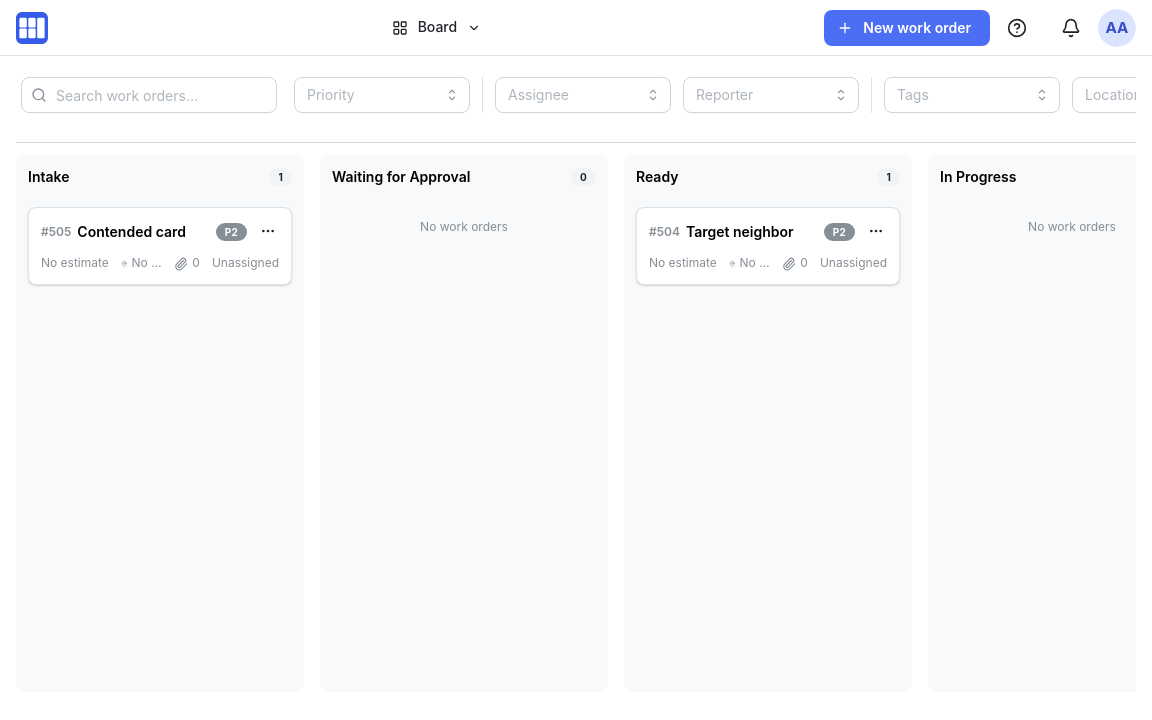
Test: BoardPage move flows › rolls back and shows the conflict toast on a 409 (ADR-012)
What coordinates should you click on to do the following:
click the button named "Work order actions" in the row of "Contended card"
I would click on:
 (268, 231)
Its box is top-left (257, 220), bottom-right (279, 242).
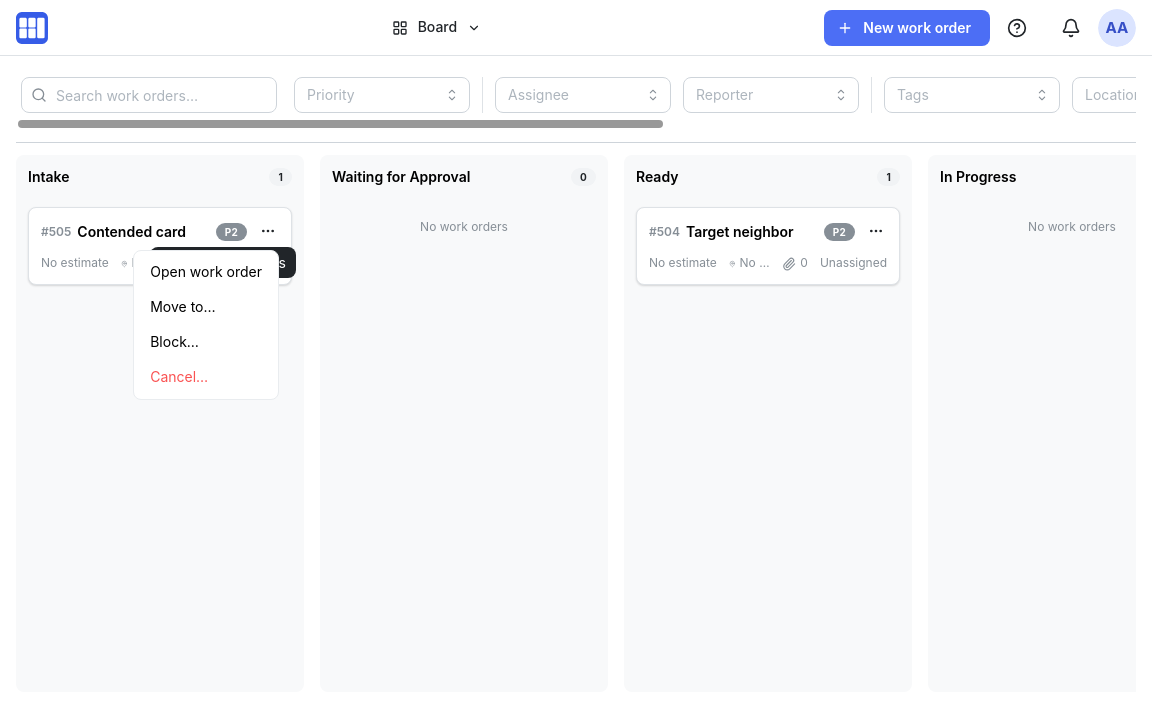
What coordinates should you click on to do the following:
click the menu item "Move to…"
I would click on:
 (206, 307)
Its box is top-left (138, 290), bottom-right (274, 325).
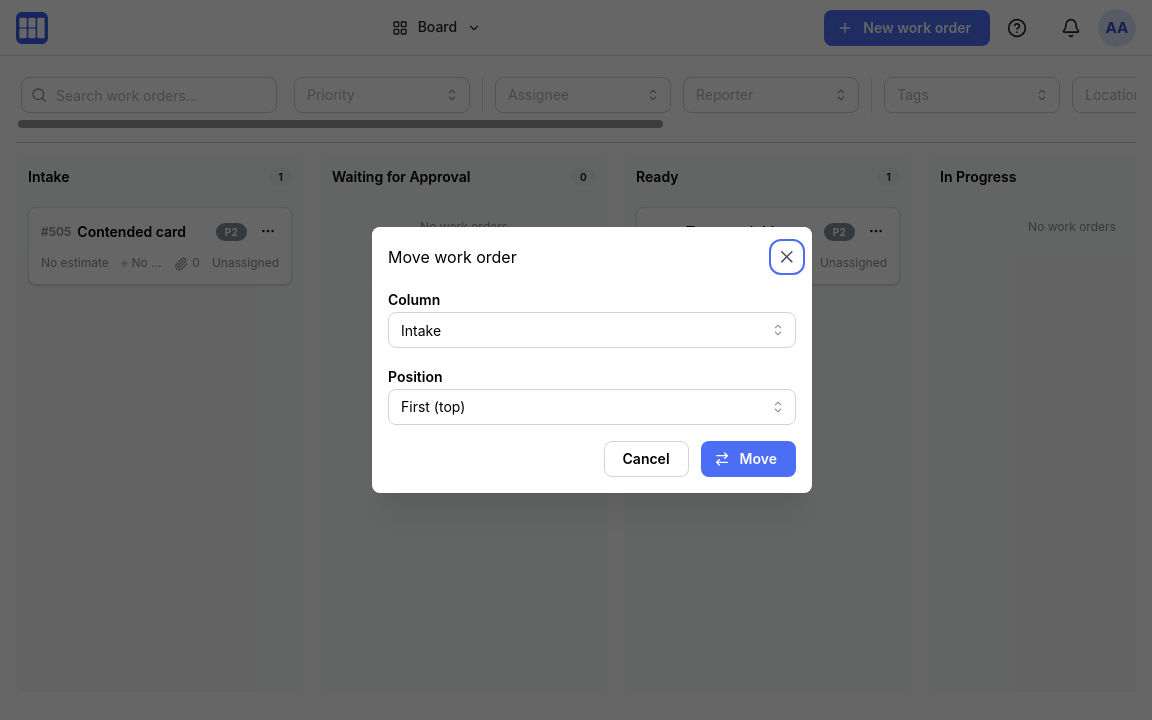
What coordinates should you click on to do the following:
click the dropdown labelled "Column"
I would click on:
 (592, 330)
Its box is top-left (388, 312), bottom-right (796, 348).
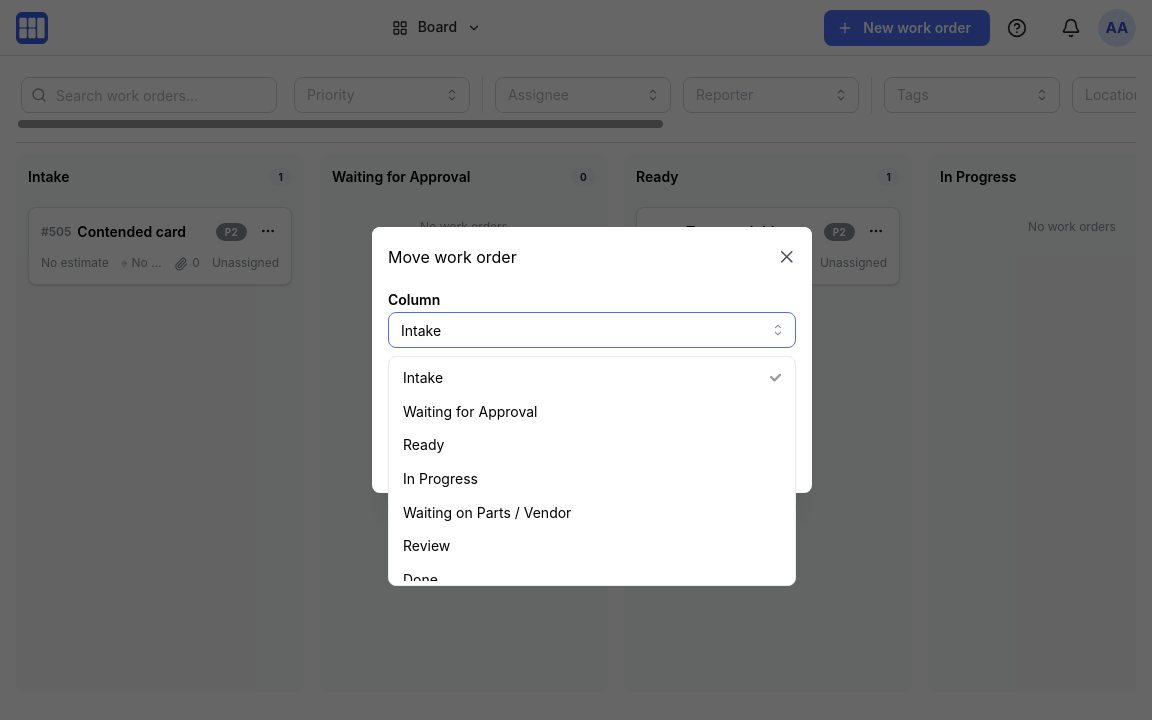
What coordinates should you click on to do the following:
click the option "Ready"
I would click on:
 (424, 445)
Its box is top-left (403, 436), bottom-right (444, 453).
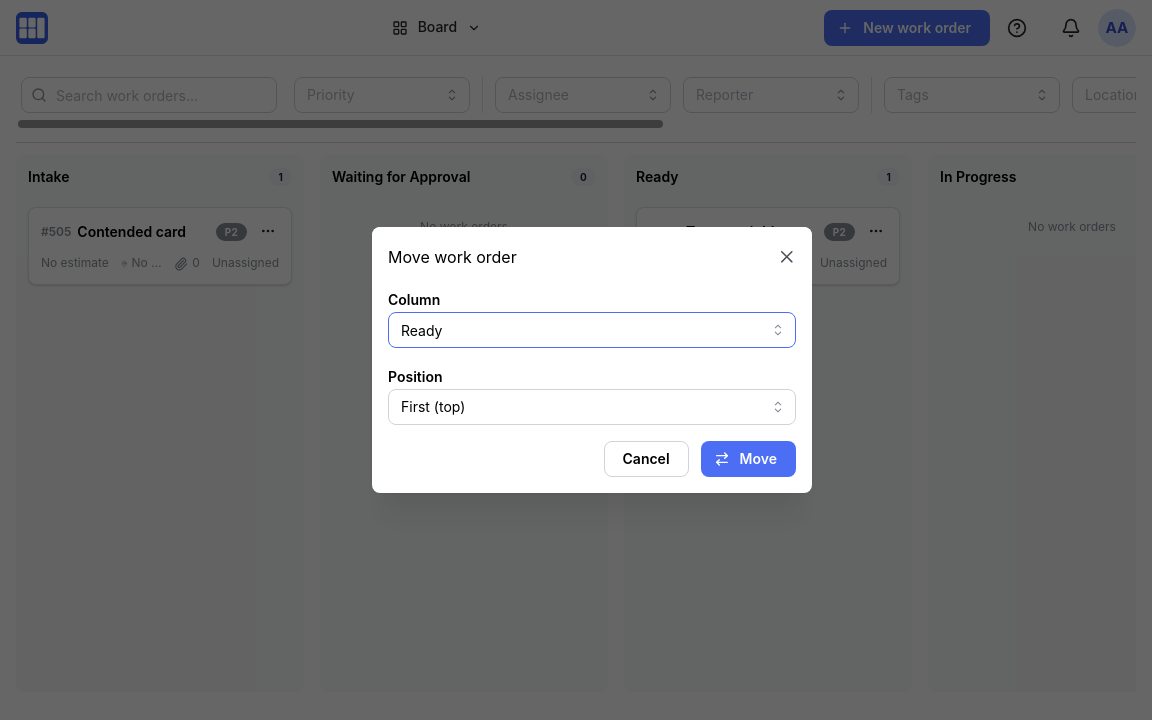
What coordinates should you click on to do the following:
click the button "Move"
I would click on:
 (748, 459)
Its box is top-left (701, 441), bottom-right (796, 477).
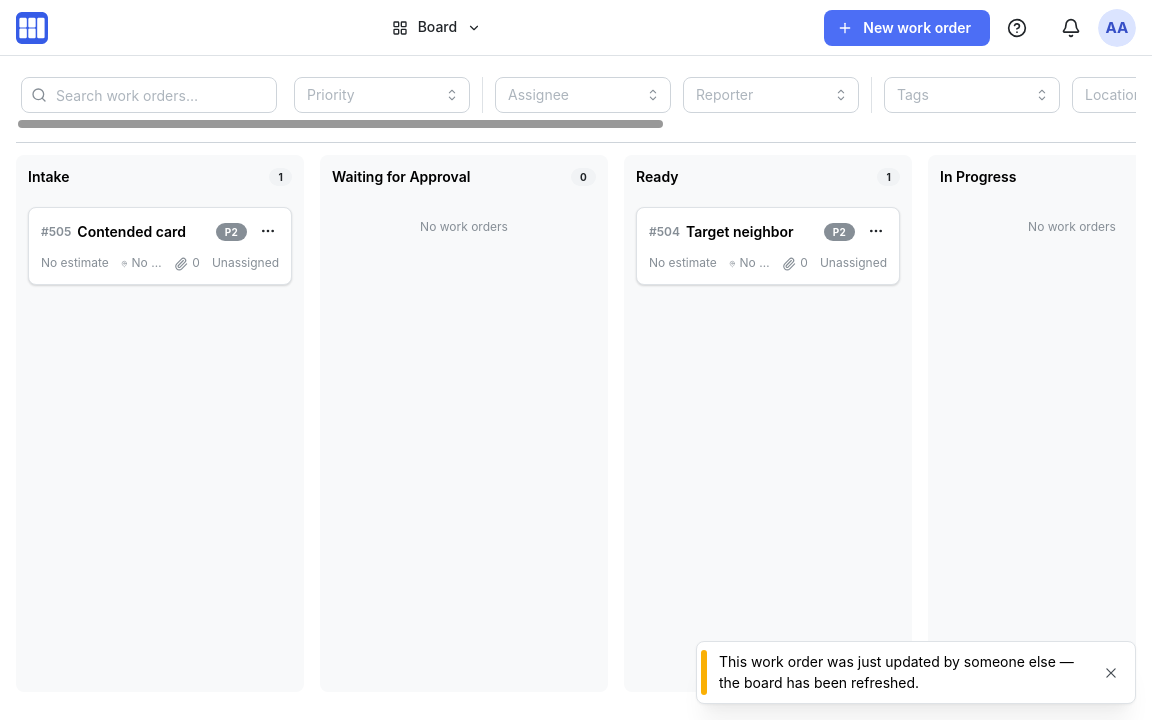
Expected: the text "Contended card" is shown, top-left (77, 223), bottom-right (186, 240)
Result: the text "This work order was just updated by someone else — the board has been refreshed." is shown at top-left (719, 652), bottom-right (1087, 693)
